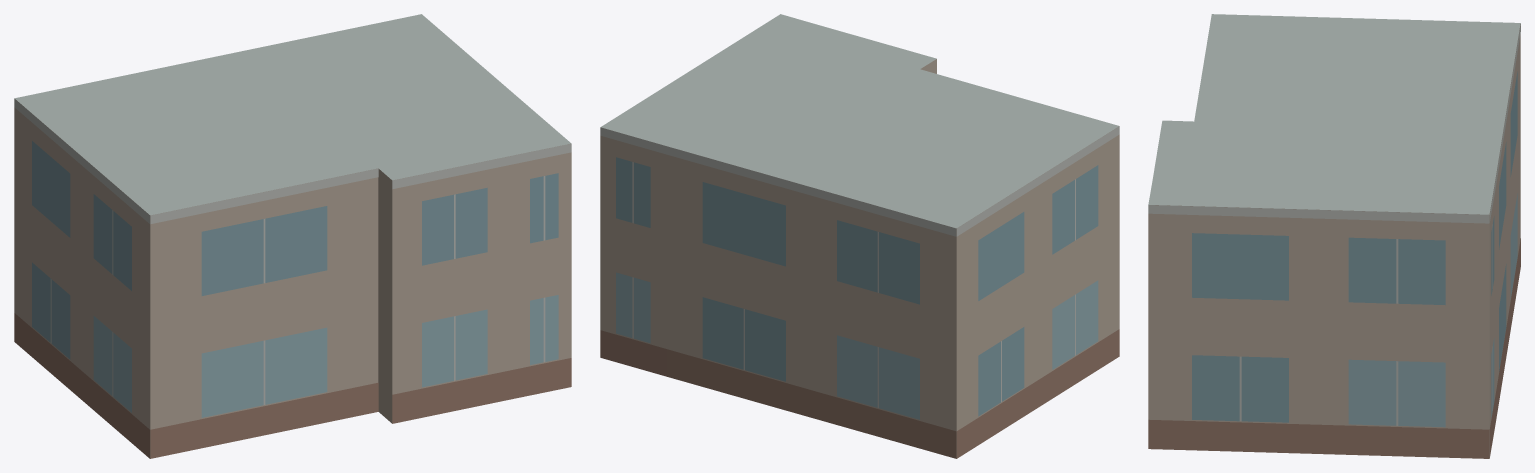
Rendered from survey-upis-32809924.glb.
3 renders of one model, left to right at view 1: azimuth 30°, elevation 25°; view 2: azimuth 150°, elevation 25°; view 3: azimuth 270°, elevation 25°, orthographic. The views are drawn at different scales.
Visible parts, largest first — view 1: survey-upis-32809924.tmp; view 2: survey-upis-32809924.tmp; view 3: survey-upis-32809924.tmp.
Part boxes in pixels (bbox=[...]): survey-upis-32809924.tmp: bbox=[14, 14, 571, 458]; survey-upis-32809924.tmp: bbox=[600, 14, 1119, 458]; survey-upis-32809924.tmp: bbox=[1148, 14, 1520, 458].
Size of the model in its own units: 11.82 by 6.7 by 9.27.
